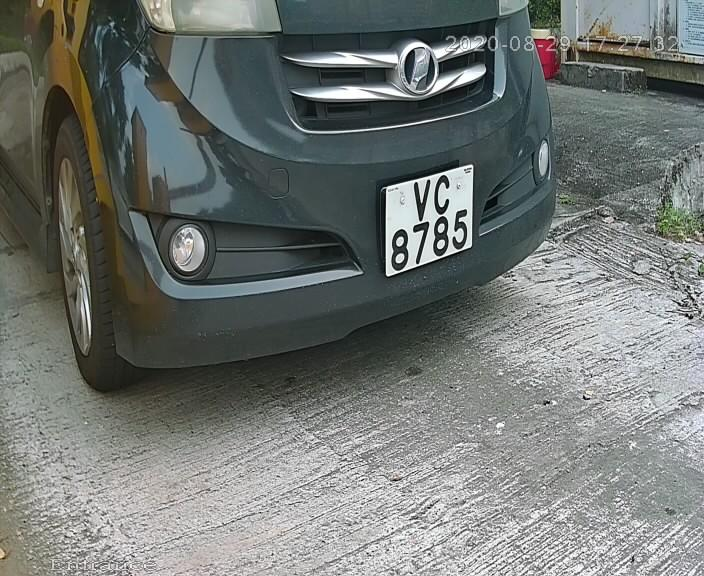License Plate: (378, 160, 481, 281)
